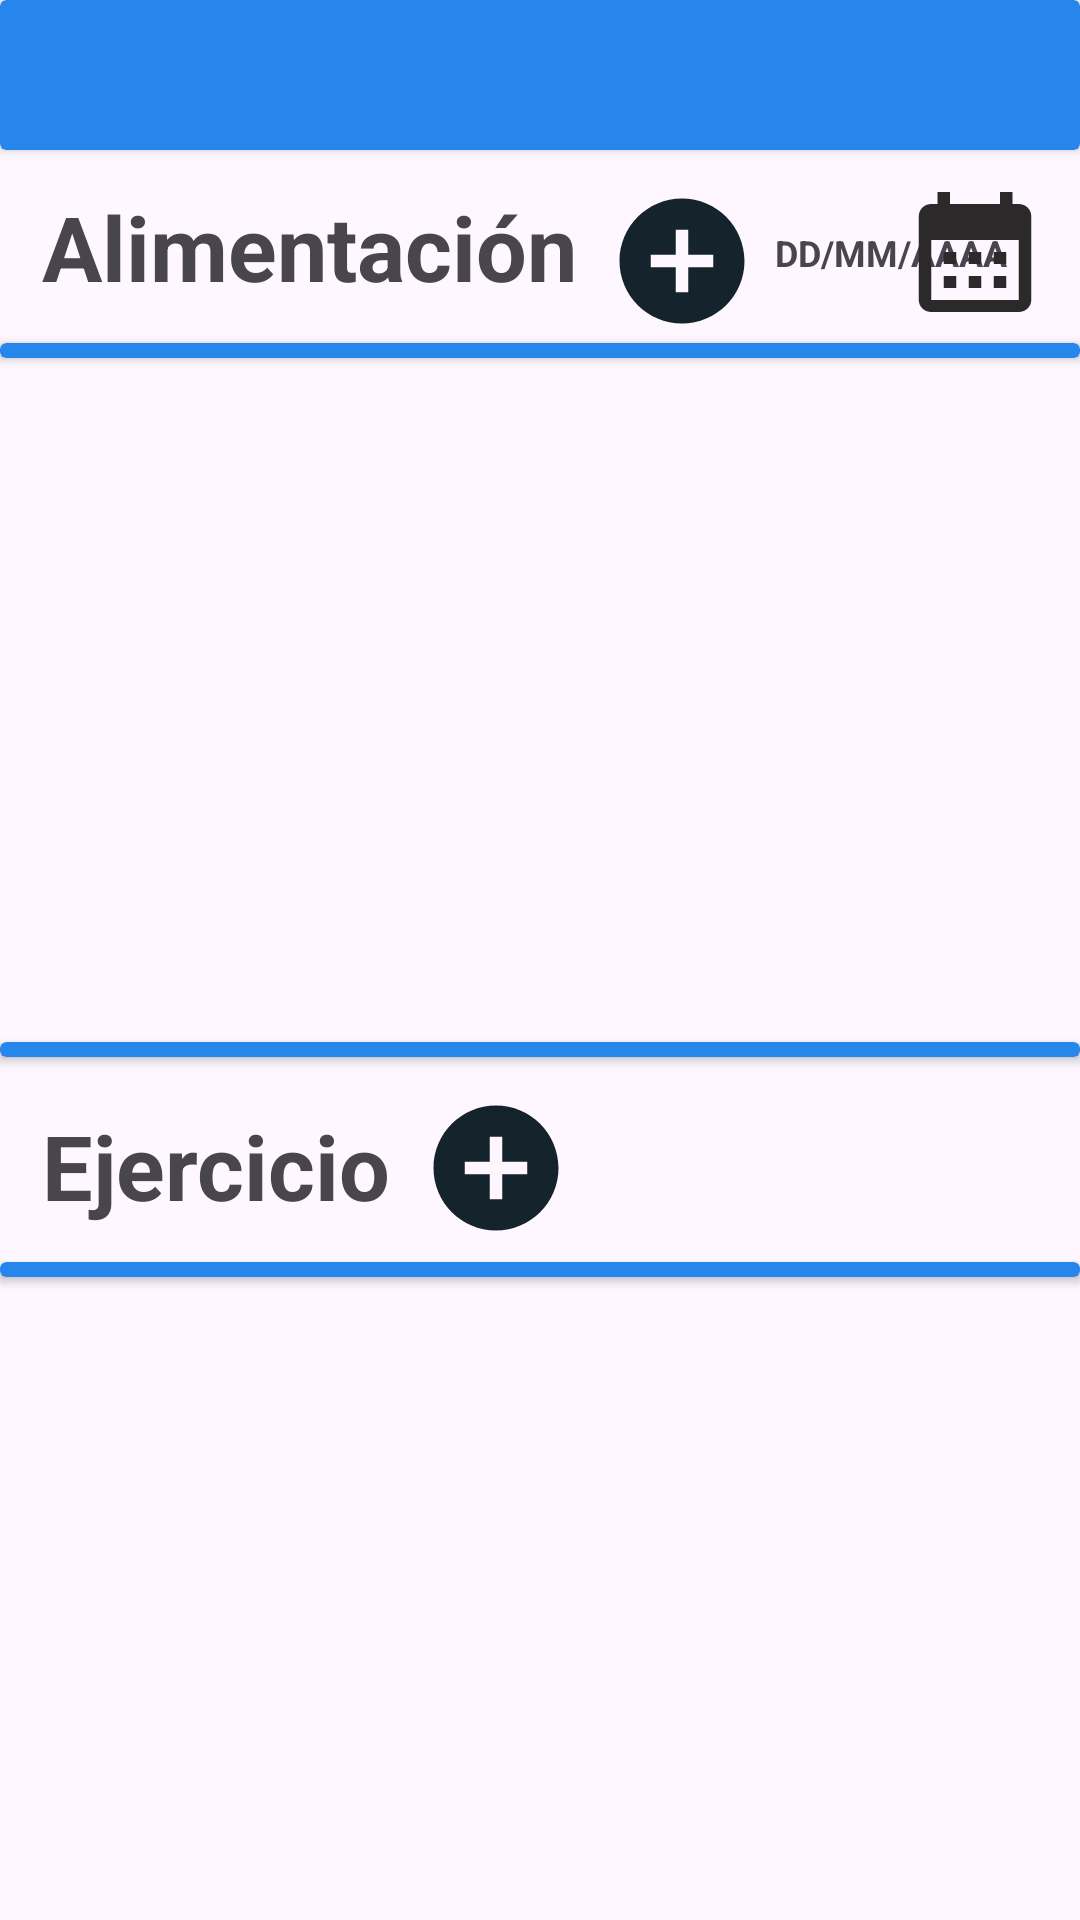

Where to tap for icons on this 1080px x 1920px app screen, as (x=x, y=y):
add circle: (x=682, y=261), (x=496, y=1168)
calendar month: (x=966, y=252)
